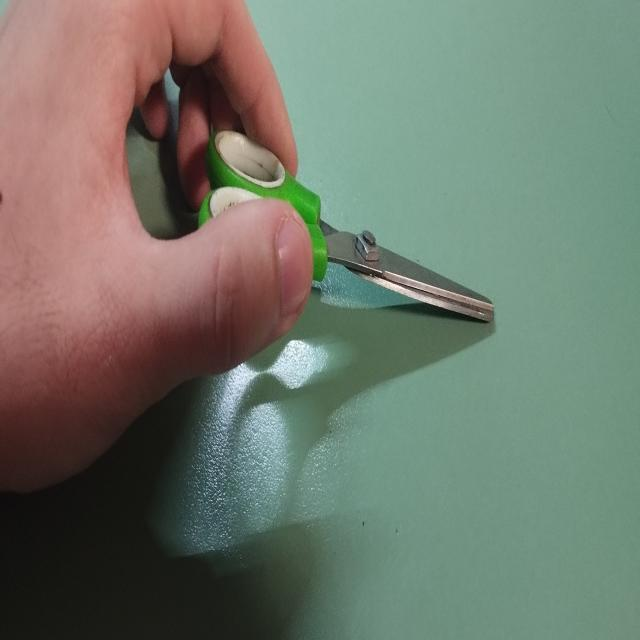tesoura: (196, 90, 498, 343)
